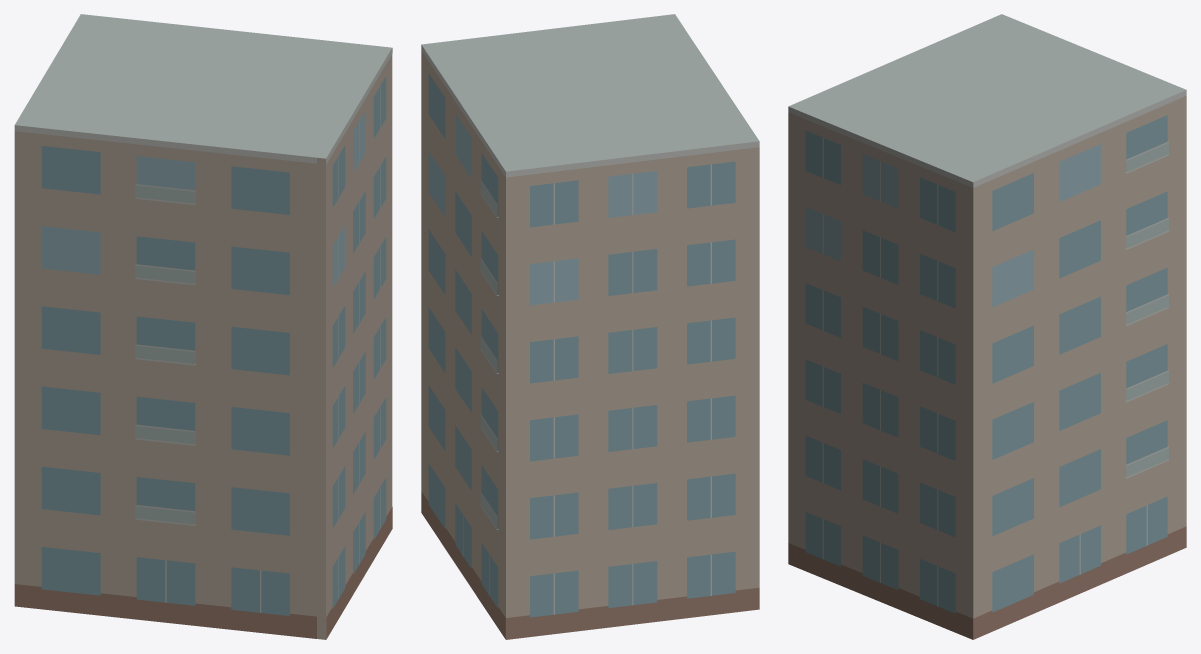
File: survey-upis-32886847.glb
The picture shows the model from 3 angles, left to right: view 1: azimuth 30°, elevation 25°; view 2: azimuth 150°, elevation 25°; view 3: azimuth 270°, elevation 25°; orthographic projection. The views are drawn at different scales.
Parts seen in each view (by area): view 1: survey-upis-32886847.tmp; view 2: survey-upis-32886847.tmp; view 3: survey-upis-32886847.tmp.
Part boxes in pixels (x1=…): survey-upis-32886847.tmp: x1=14, y1=14, x2=392, y2=639; survey-upis-32886847.tmp: x1=421, y1=14, x2=759, y2=639; survey-upis-32886847.tmp: x1=788, y1=14, x2=1186, y2=639.
Size of the model in its own units: 15.39 by 19.5 by 15.4.
